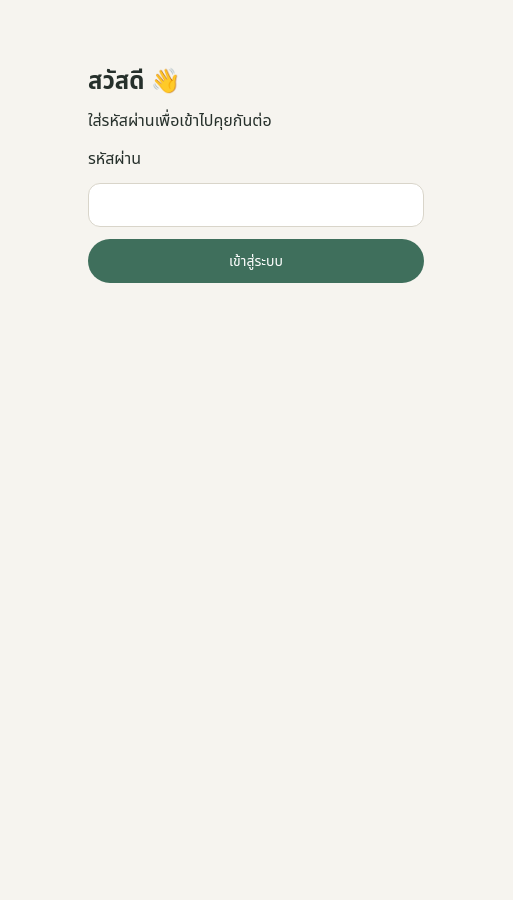
Test: 401 shows login, then login shows chat with only a settings button
Type "secret" into the password field labelled "รหัสผ่าน".
click(256, 205); type("secret")  # box 88,183 -> 424,227
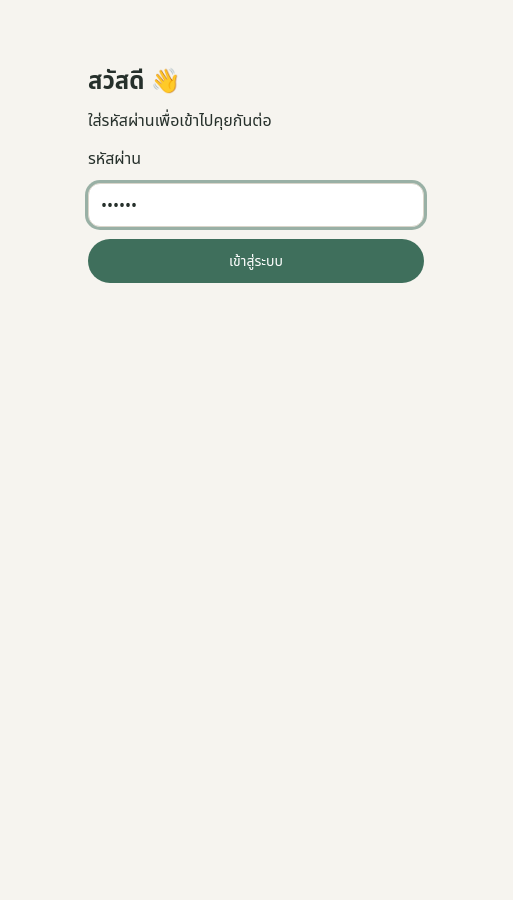
Click the button "เข้าสู่ระบบ".
click(256, 261)  # box 88,239 -> 424,283
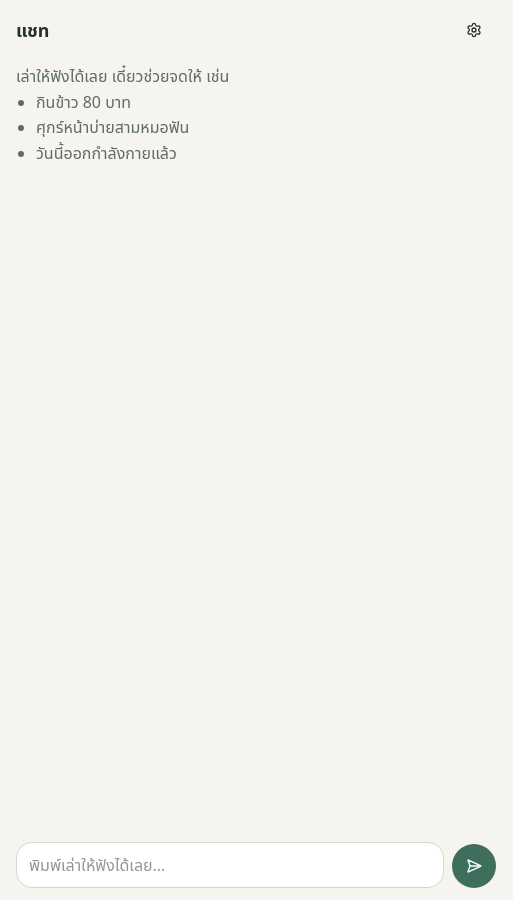
Expected: the list named "บทสนทนา" is shown, 16,65 -> 229,164
Expected: the button named "ตั้งค่า" is shown, 452,8 -> 496,52
